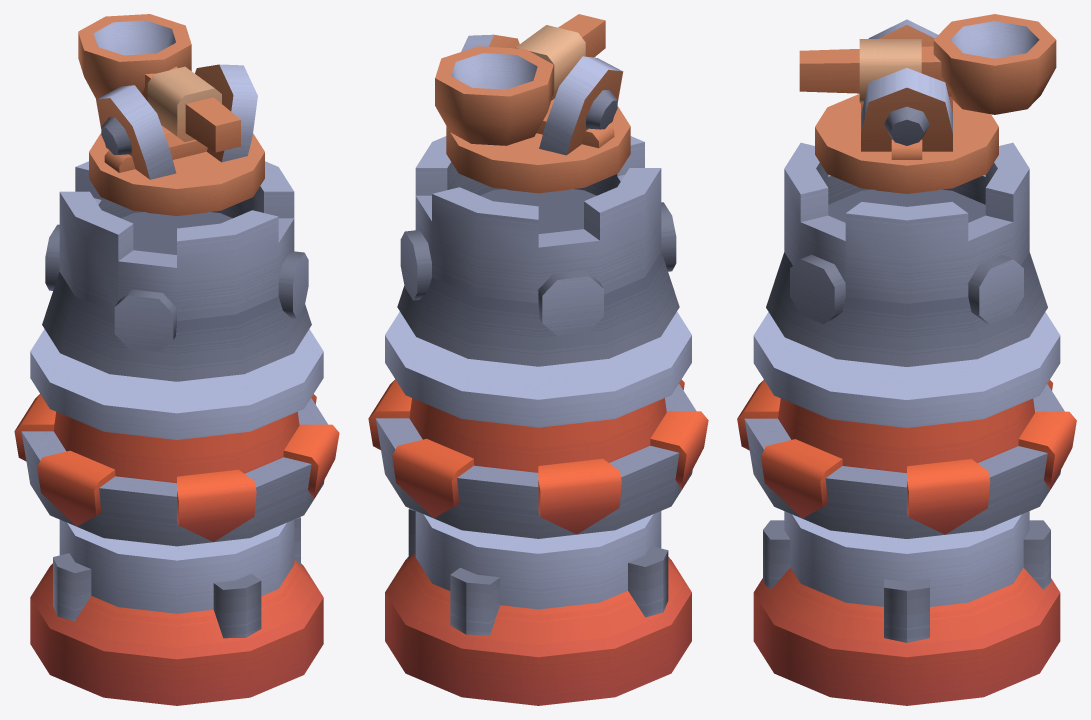
Rendered from tower_throw.glb.
3 renders of one model, left to right at view 1: azimuth 30°, elevation 25°; view 2: azimuth 150°, elevation 25°; view 3: azimuth 270°, elevation 25°, orthographic. The views are drawn at different scales.
Visible parts, largest first — view 1: tower-round-bottom-a_b; view 2: tower-round-bottom-a_b; view 3: tower-round-bottom-a_b.
Part boxes in pixels (x1=…): tower-round-bottom-a_b: x1=14, y1=14, x2=339, y2=705; tower-round-bottom-a_b: x1=368, y1=14, x2=708, y2=705; tower-round-bottom-a_b: x1=737, y1=14, x2=1076, y2=705.
Size of the model in its own units: 1.13 by 2.2 by 1.13.
Materials: 4 (4 with a texture image).
